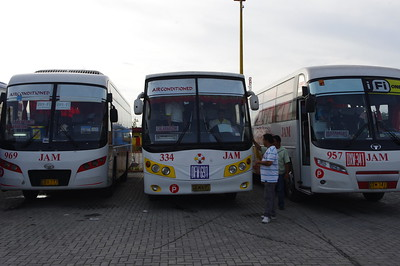bus: (252, 65, 400, 201), (1, 69, 131, 198), (135, 70, 258, 204)
